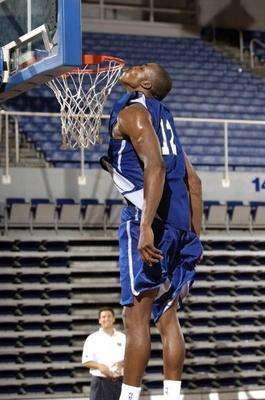human: (113, 62, 203, 400)
rim: (53, 55, 125, 151)
